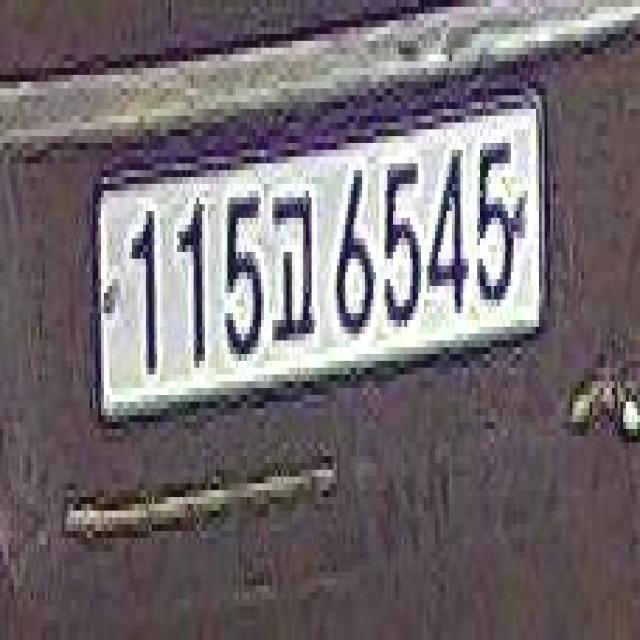illegal_plate: (89, 86, 549, 433)
